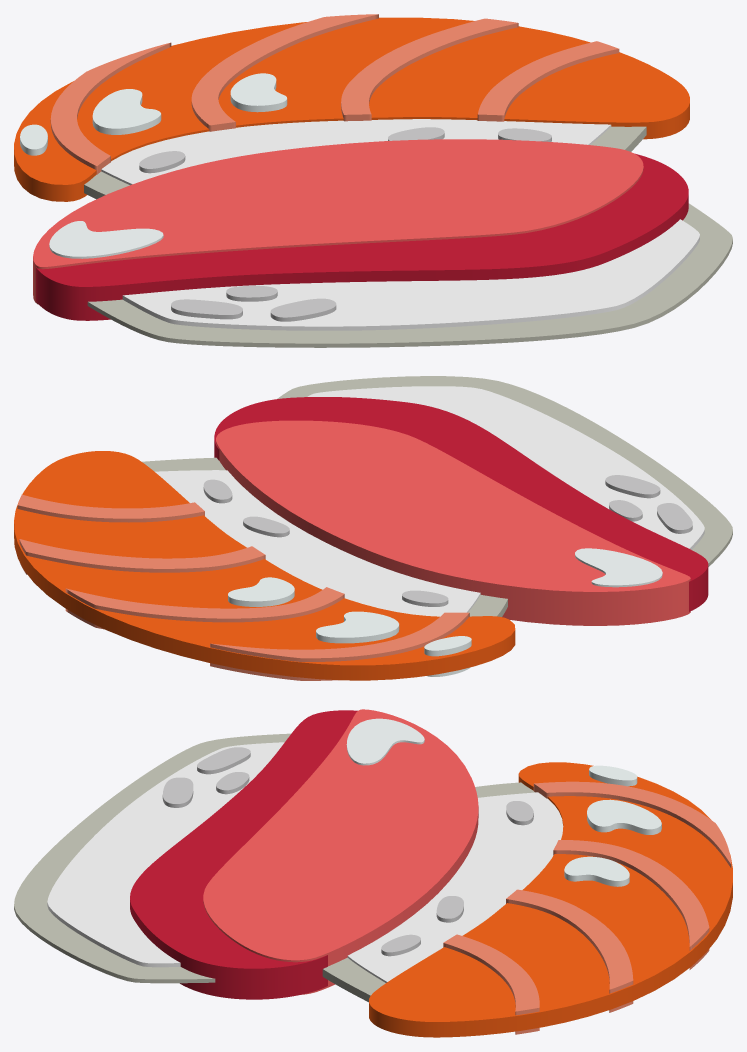
The model's file is emoji_u1f363.glb.
3 renders of one model, top to bottom at view 1: azimuth 30°, elevation 25°; view 2: azimuth 150°, elevation 25°; view 3: azimuth 270°, elevation 25°, orthographic. The views are drawn at different scales.
Visible parts, largest first — view 1: emoji_u1f363; view 2: emoji_u1f363; view 3: emoji_u1f363.
Boxes of the visible parts, box(x1,y1,x2,y2) form: emoji_u1f363: box(14, 14, 732, 347); emoji_u1f363: box(14, 376, 732, 680); emoji_u1f363: box(14, 709, 732, 1037).
Bounding box in the file's own units: 0.0338 × 0.002 × 0.0337.
